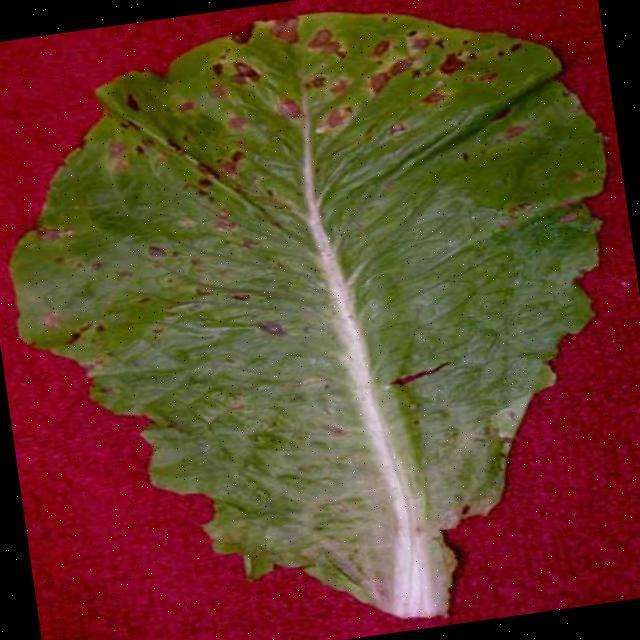Septoria_Blight_on_lettuce: (115, 57, 524, 364)
